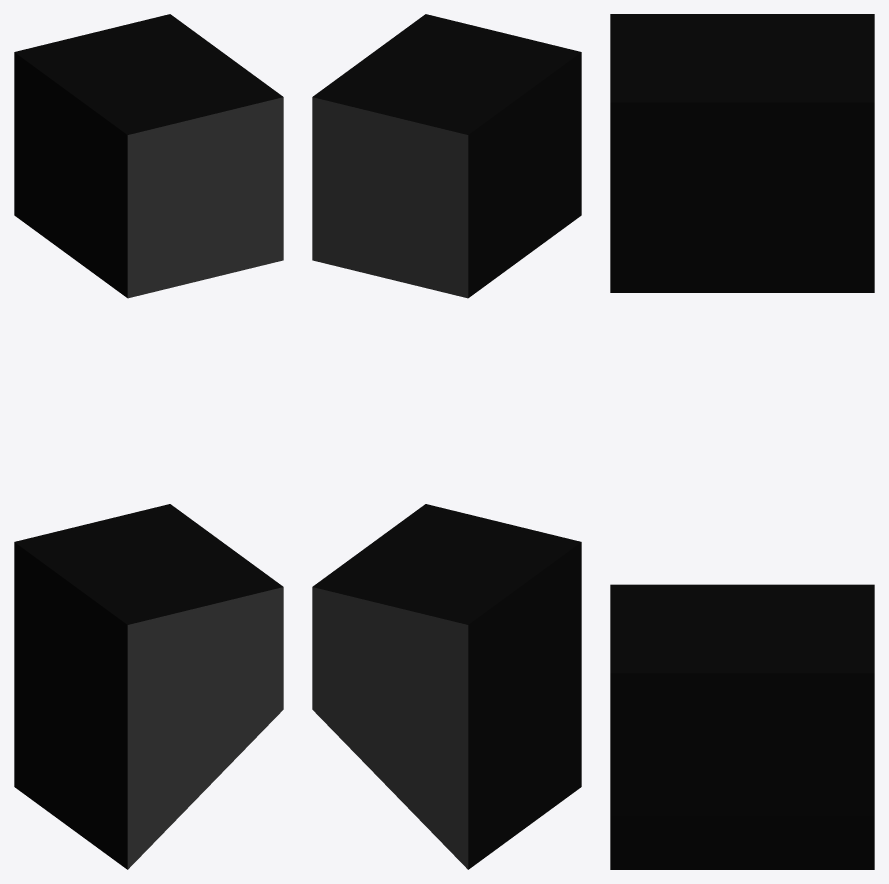
3 renders of one model, left to right at view 1: azimuth 30°, elevation 25°; view 2: azimuth 150°, elevation 25°; view 3: azimuth 270°, elevation 25°, orthographic. The views are drawn at different scales.
Visible parts, largest first — view 1: ;_DeltaBlock_Black; view 2: ;_DeltaBlock_Black; view 3: ;_DeltaBlock_Black.
Part boxes in pixels (x1,y1,x2,y2): ;_DeltaBlock_Black: [14, 14, 283, 869]; ;_DeltaBlock_Black: [312, 14, 581, 869]; ;_DeltaBlock_Black: [610, 14, 874, 869].
Size of what is drawn, in the model's own units: 0.0357 by 0.1607 by 0.045.
2 materials, 2 textured.
